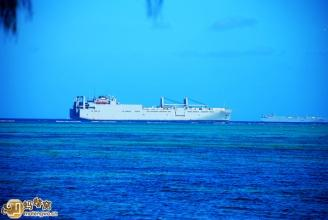warship: (61, 94, 234, 122)
